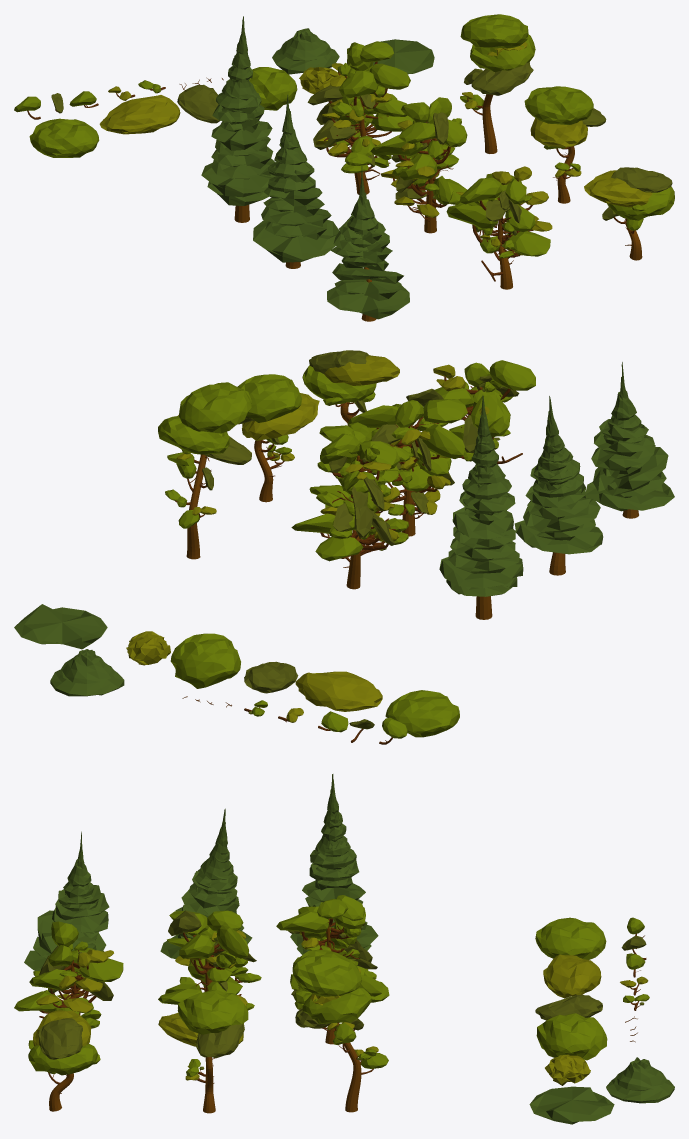
Rendered from trees.gltf.
3 views of the same model, one above another, from view 1: azimuth 30°, elevation 25°; view 2: azimuth 150°, elevation 25°; view 3: azimuth 270°, elevation 25° (orthographic). The views are drawn at different scales.
Bounding box in the file's own units: 19.47 × 10.03 × 27.68.
